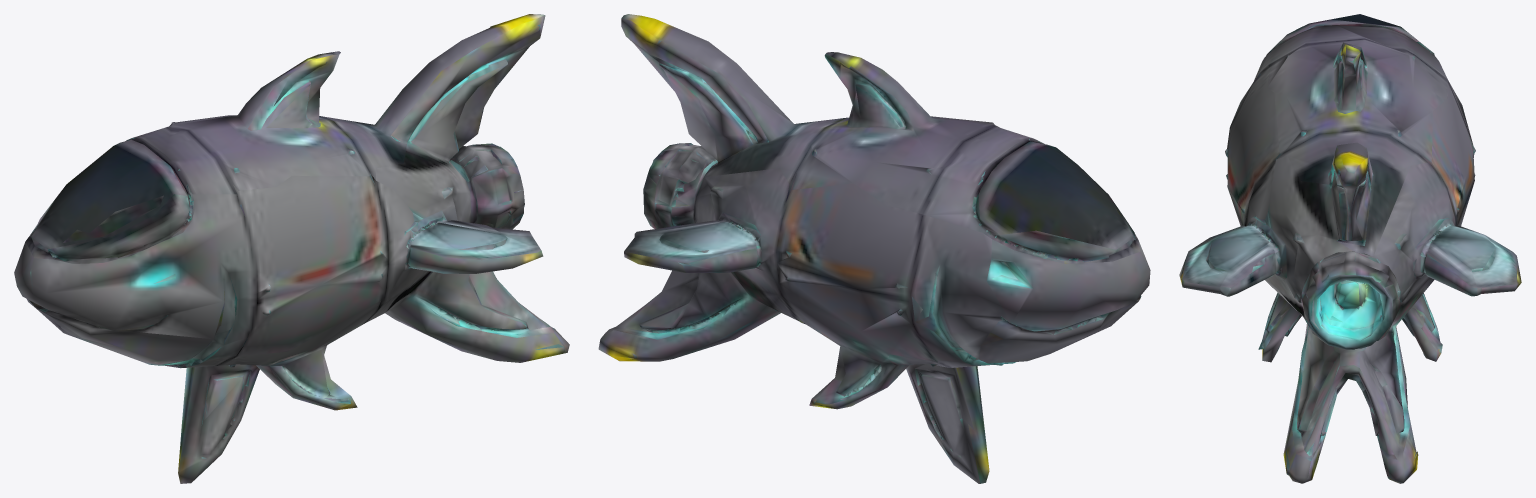
Rendered from sardine-diet.glb.
3 renders of one model, left to right at view 1: azimuth 30°, elevation 25°; view 2: azimuth 150°, elevation 25°; view 3: azimuth 270°, elevation 25°, orthographic.
Visible parts, largest first — view 1: Mesh_0; view 2: Mesh_0; view 3: Mesh_0.
Boxes of the visible parts, x1,y1,x2,y2 form: Mesh_0: (14, 14, 569, 483); Mesh_0: (598, 14, 1150, 483); Mesh_0: (1179, 14, 1521, 483).
Bounding box in the file's own units: 1.89 × 1.36 × 1.08.
Materials: 1 (1 with a texture image).
